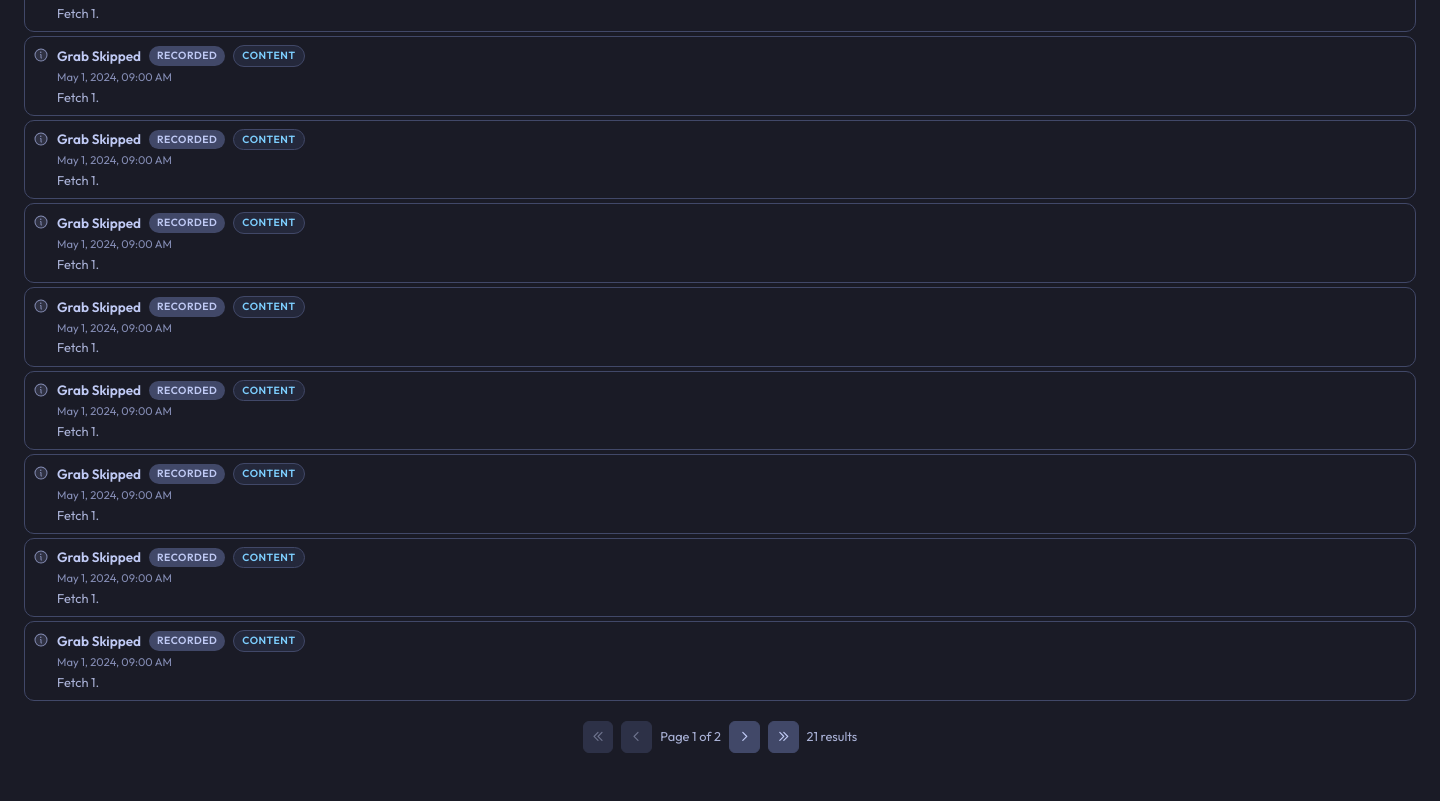
RelatedEventsChain › Pagination_KeepsRelatedPage_WhenActivityRefetches
(page scrolled)
Click the button named "Go to next page": (744, 737) [729,721,760,753]
(page scrolled)
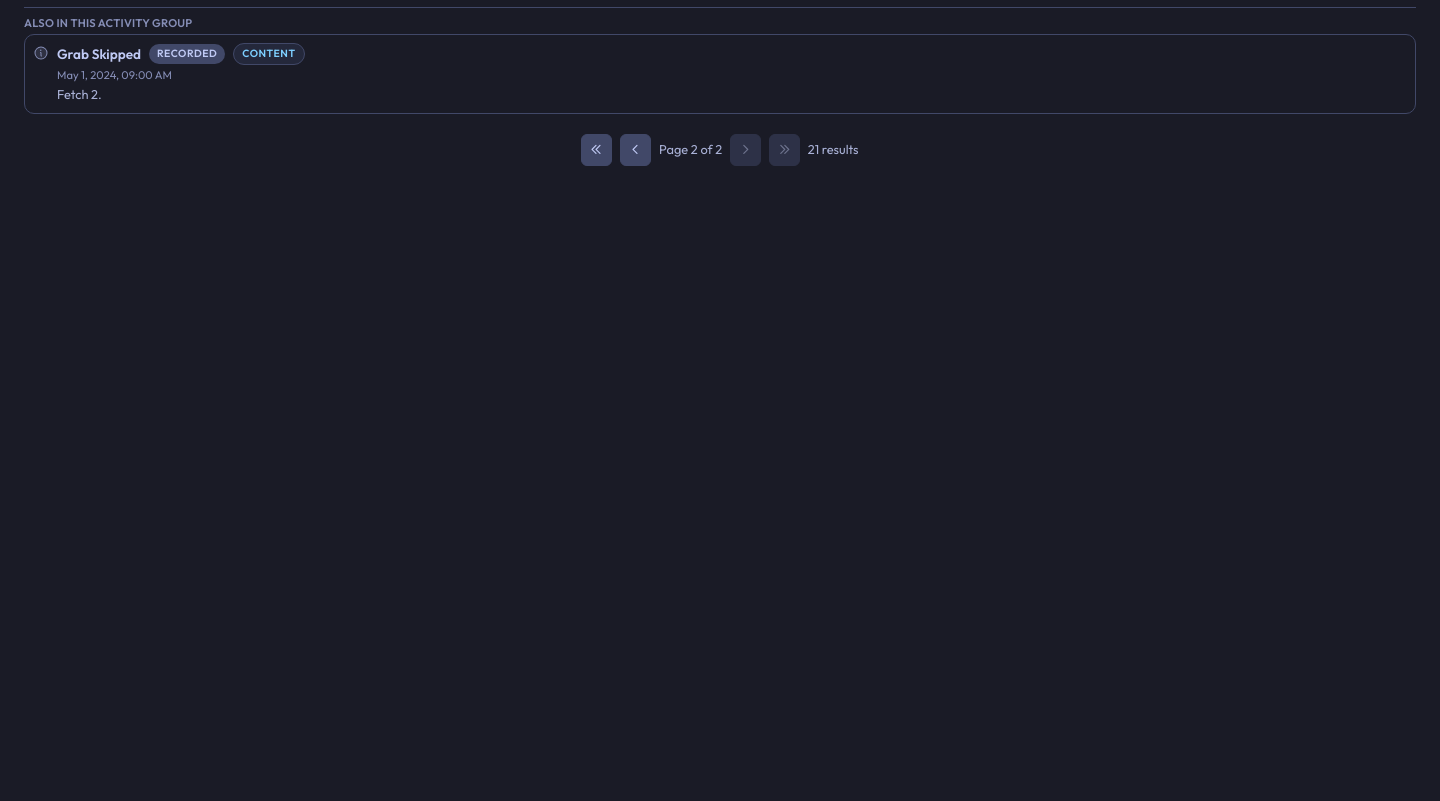
Now the text "Fetch 2." is shown, box [57,86,102,102]
Now the text "Page 2 of 2" is shown, box [659,140,722,159]
